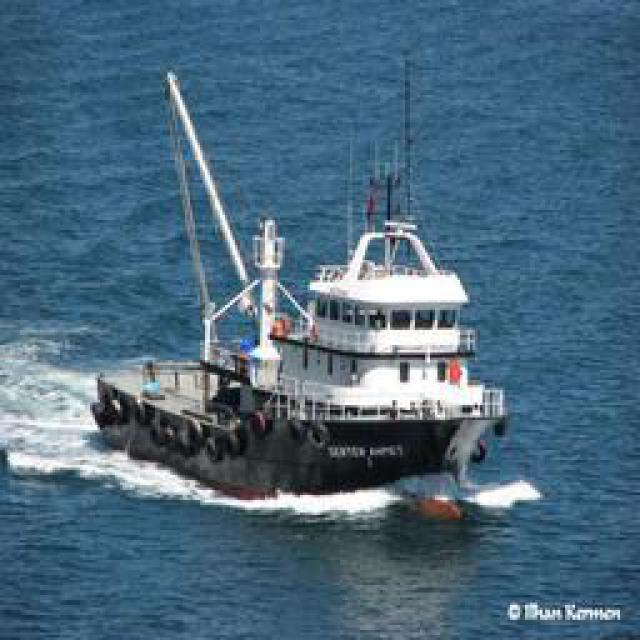Ship: (98, 58, 516, 503)
